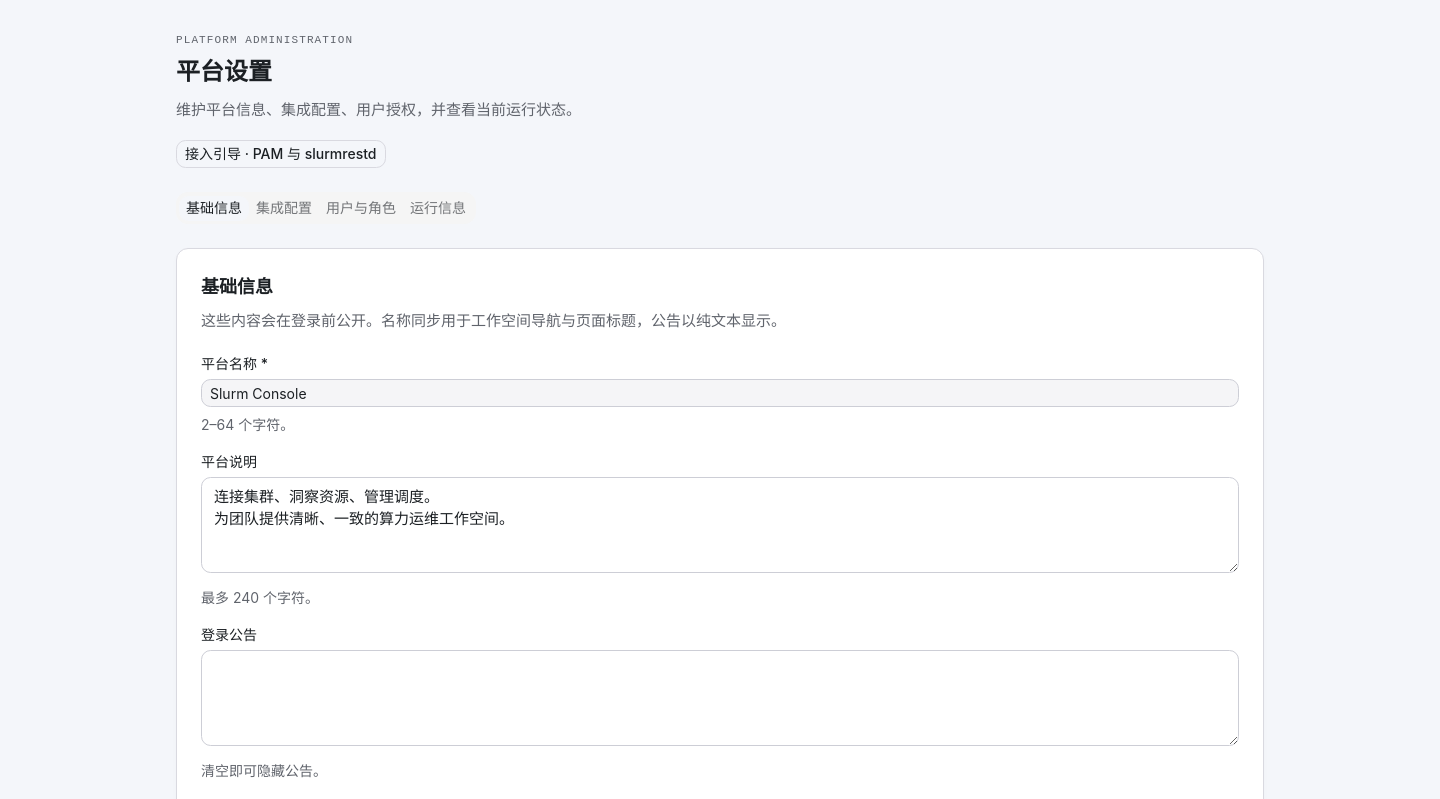
Test: persists basic info and updates public identity only after success
Replace the text in the field labelled "平台名称 *" with "科研平台" at [720, 393], box [201,379,1239,407]
(page scrolled)
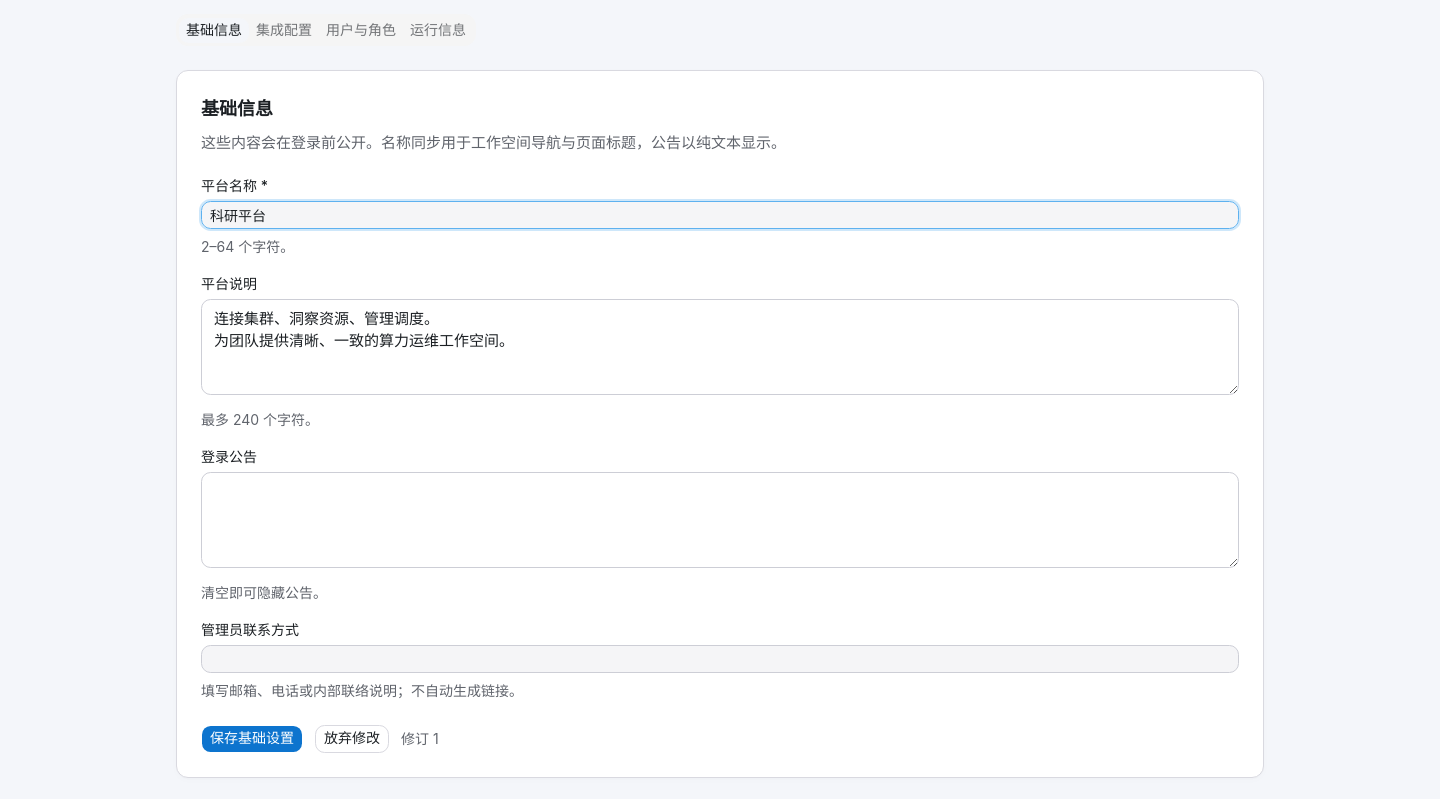
Click the button "保存基础设置".
click(252, 738)  # box [201,724,303,752]
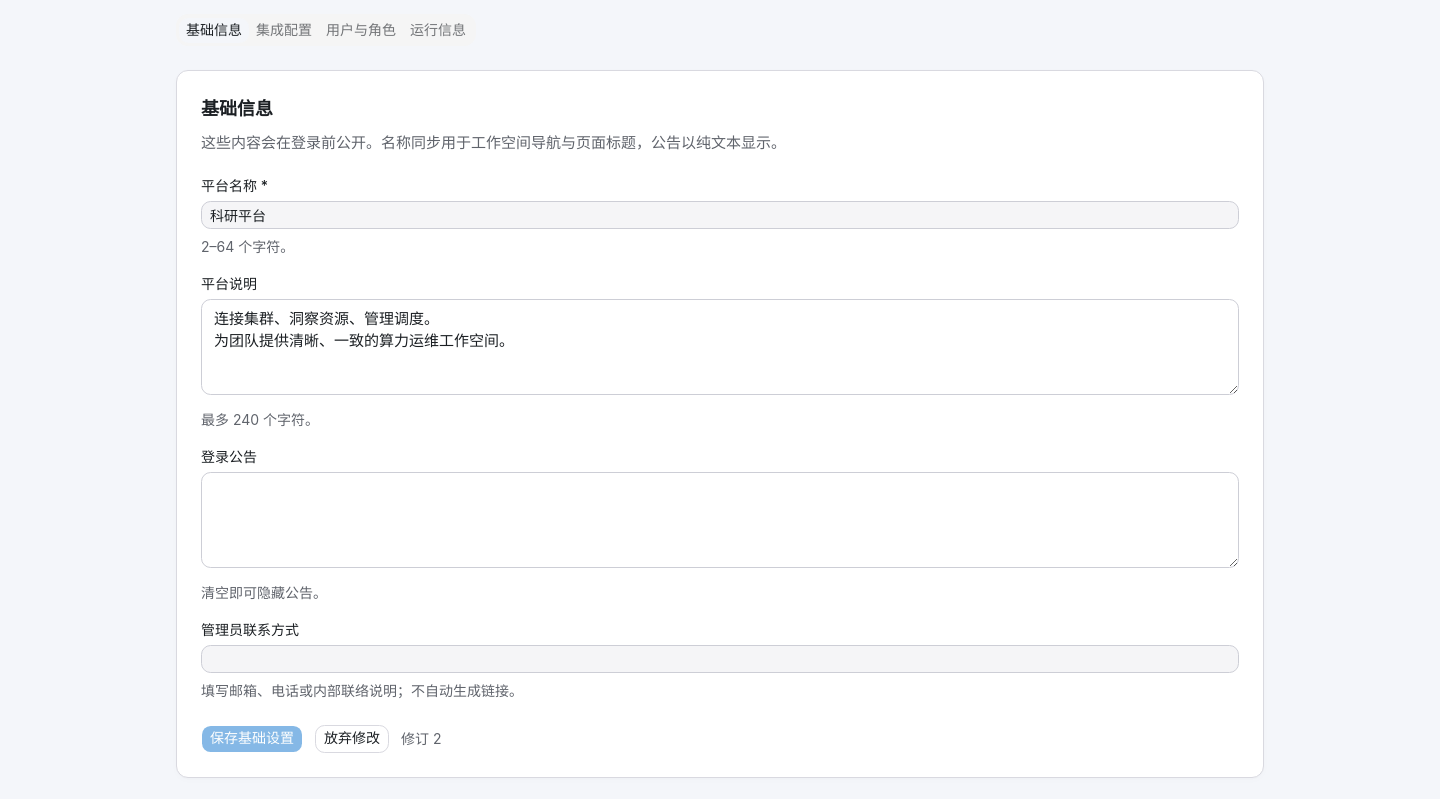
Now the text "修订 2" is shown, box [401,728,442,748]
